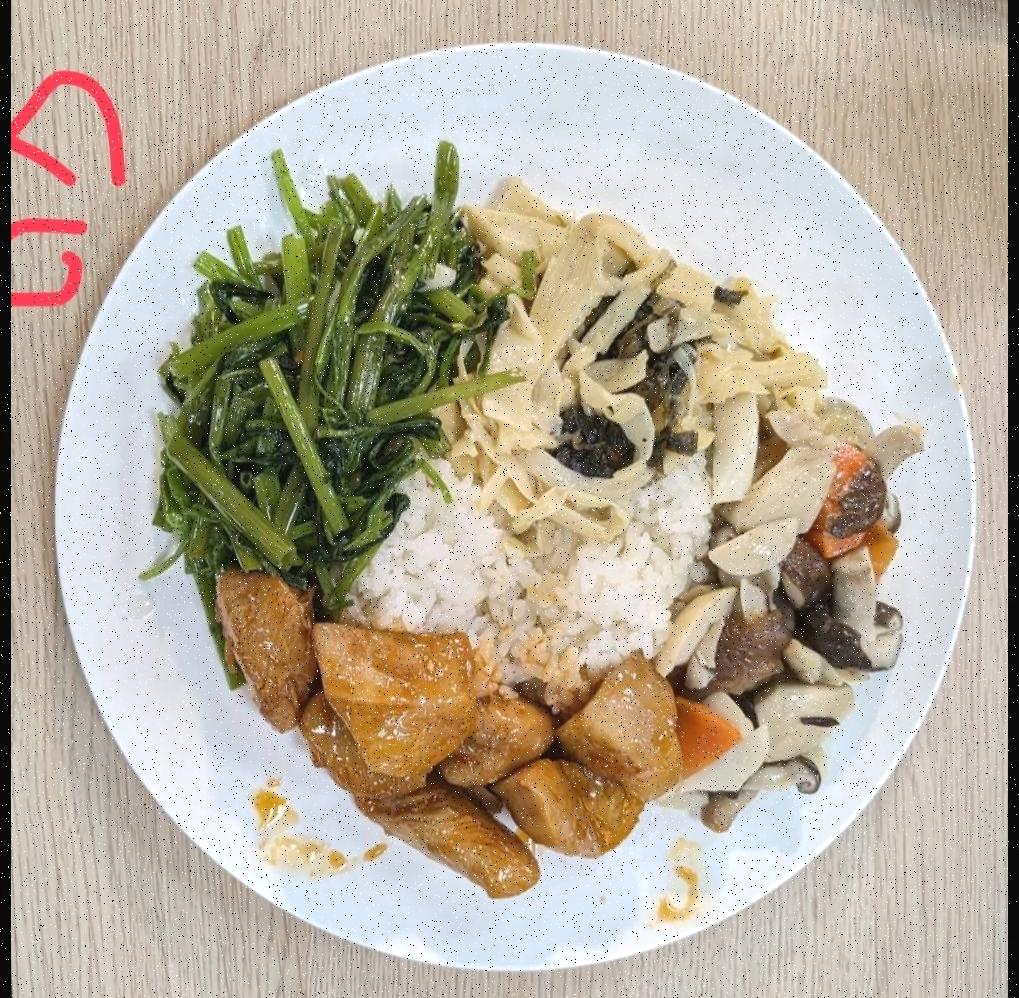big fried chicken leg: (43, 31, 982, 988)
big herbal chicken leg: (328, 414, 716, 707)
braised fish fillet: (144, 138, 490, 616), (467, 190, 804, 523), (660, 399, 922, 820)
braised pork: (205, 564, 688, 888)
